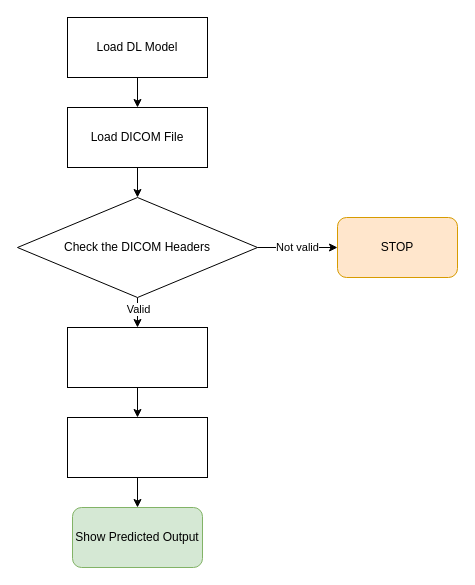
The diagram is 475 pixels wide and 585 high, and some of its shapes have lost their labels. Each missing label, with the centre of its shape:
"Model Inference" goes at [137,447].
"Pre-process image data" goes at [137,357].
